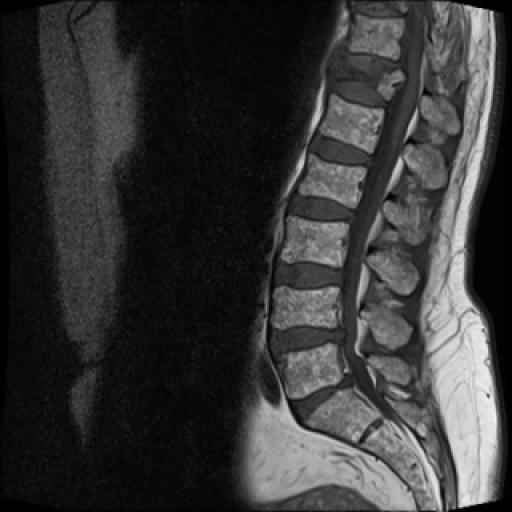L1: (317, 92, 384, 156)
L2: (298, 153, 366, 208)
L3: (280, 214, 350, 268)
L4: (271, 286, 341, 329)
L5: (278, 345, 342, 398)
S1: (305, 388, 381, 444)
